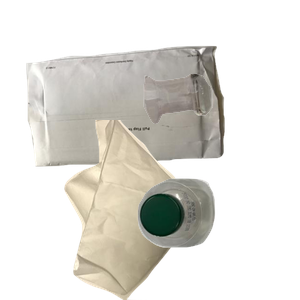glass: (141, 71, 300, 187)
paper: (24, 43, 242, 202)
plastic: (135, 176, 300, 300)
trash: (62, 120, 251, 300)
